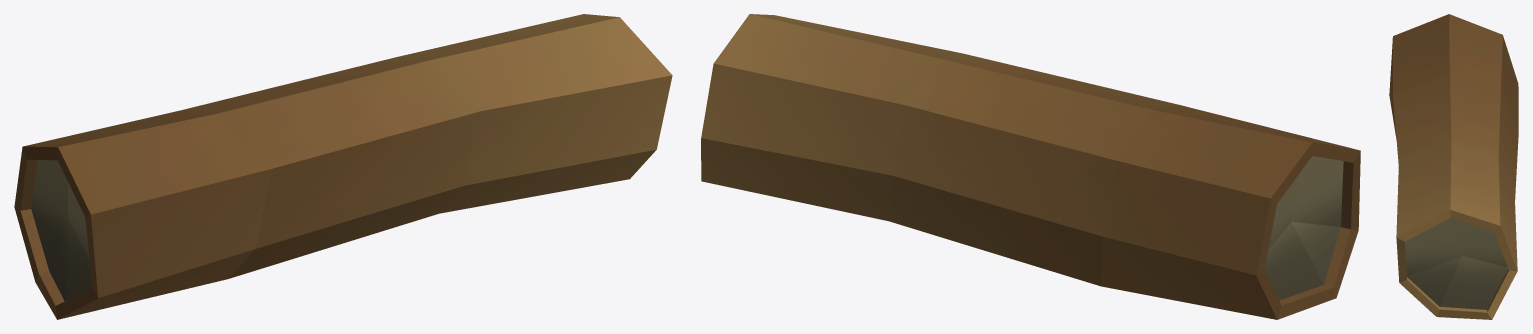
File: pack01_foliage_20.fbx
3 renders of one model, left to right at view 1: azimuth 30°, elevation 25°; view 2: azimuth 150°, elevation 25°; view 3: azimuth 270°, elevation 25°, orthographic. The views are drawn at different scales.
Visible parts, largest first — view 1: Log_big_regular; view 2: Log_big_regular; view 3: Log_big_regular.
Part boxes in pixels (x1,y1,x2,y2): Log_big_regular: (14, 14, 672, 319); Log_big_regular: (701, 14, 1360, 319); Log_big_regular: (1389, 14, 1518, 319).
Size of the model in its own units: 831 by 219 by 226.
1 material, 1 textured.
